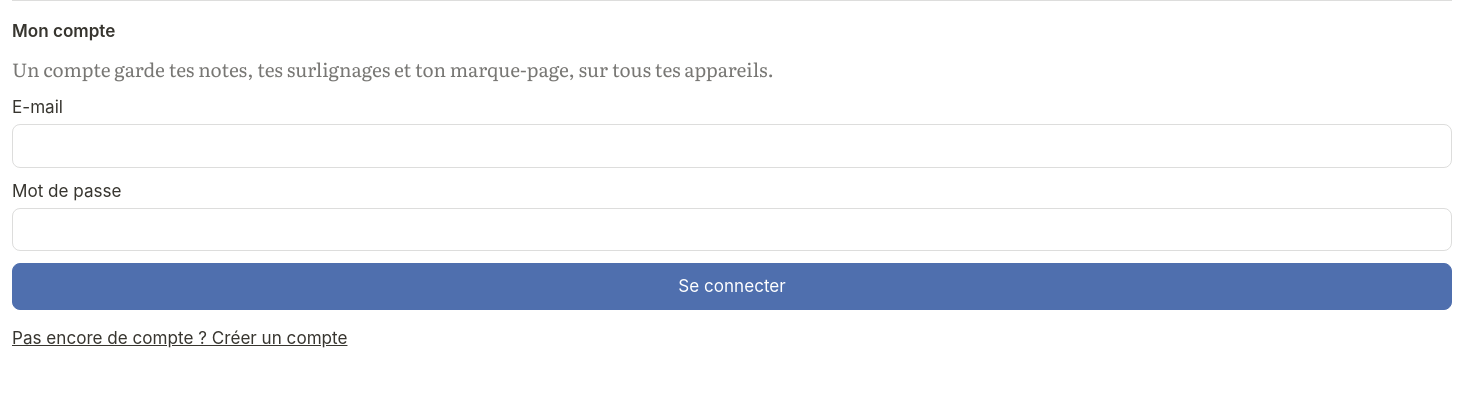
Test: AccountSection › un échec affiche le message du serveur
In the field labelled "E-mail": (732, 146) [12,124,1452,168], type "marin@exemple.fr"
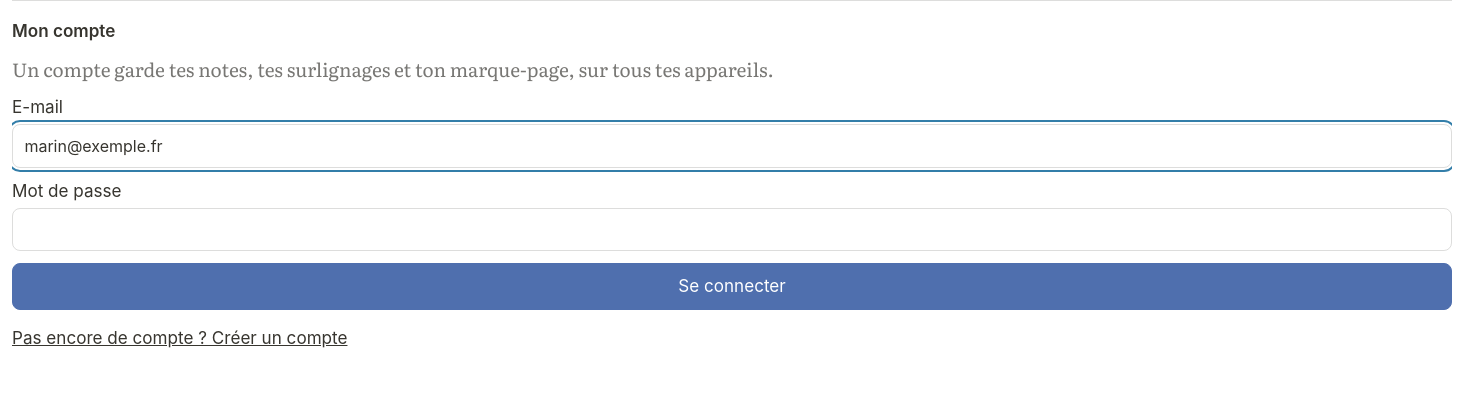
In the password field labelled "Mot de passe": (732, 230) [12,208,1452,252], type "pas le bon mot"
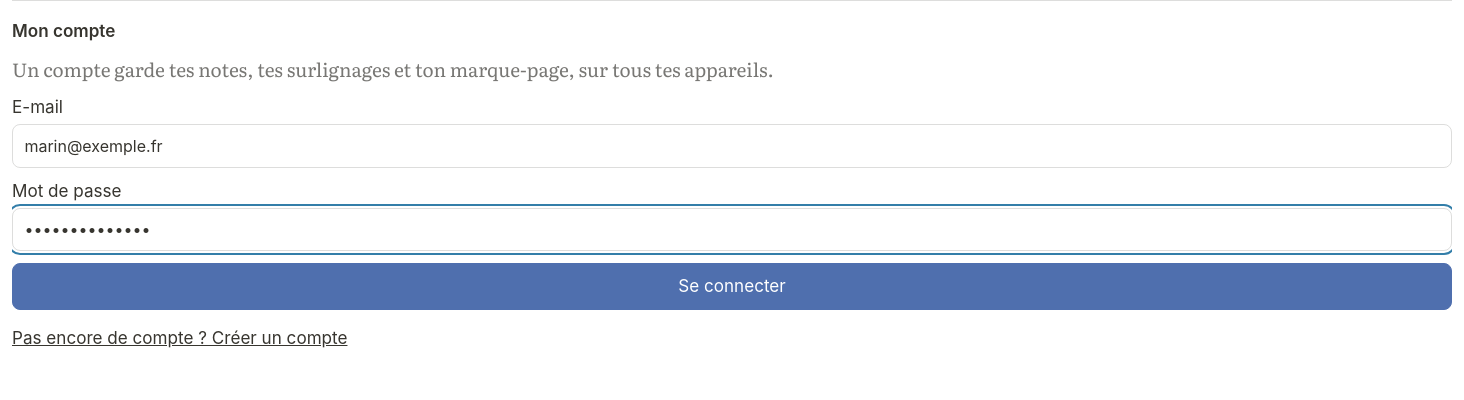
Click the button "Se connecter": (732, 286) [12,263,1452,310]
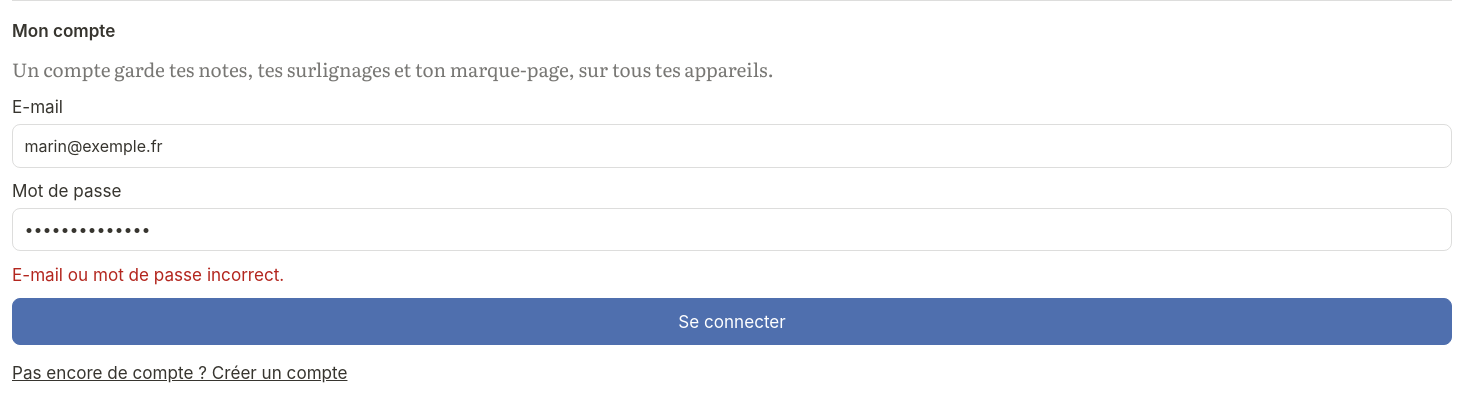
Expected: the message reads "E-mail ou mot de passe incorrect.", [12,264,284,285]
